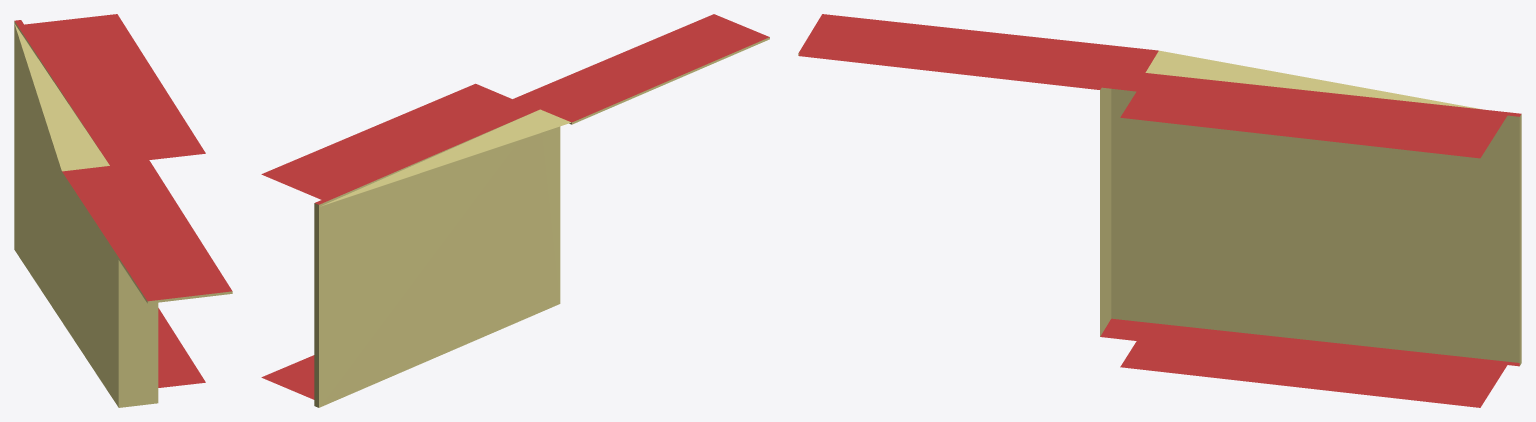
3 views of the same model, side by side, from view 1: azimuth 30°, elevation 25°; view 2: azimuth 150°, elevation 25°; view 3: azimuth 270°, elevation 25° (orthographic). The views are drawn at different scales.
Bounding box in the file's own units: 11.38 × 24.07 × 9.16.
